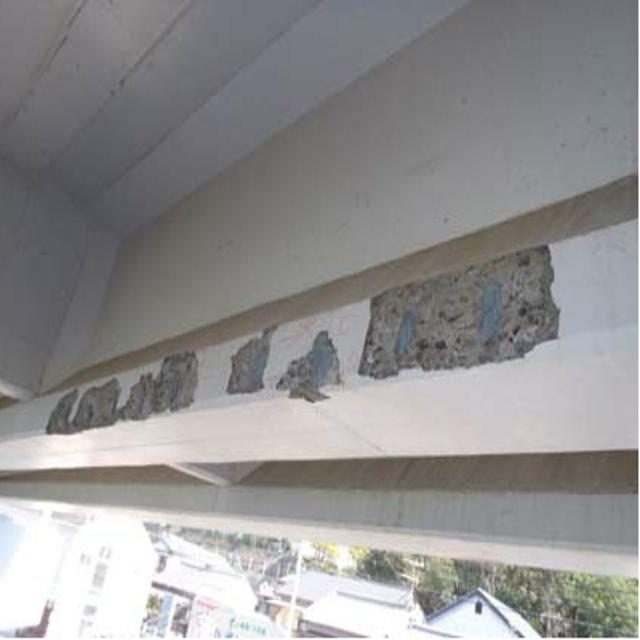crack: (30, 244, 597, 450)
